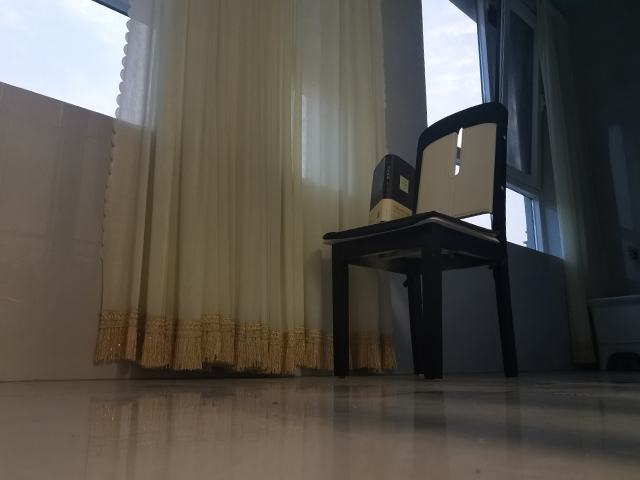book: (367, 152, 421, 230)
curtain: (88, 1, 391, 381), (534, 1, 614, 364)
stool: (319, 100, 523, 381)
